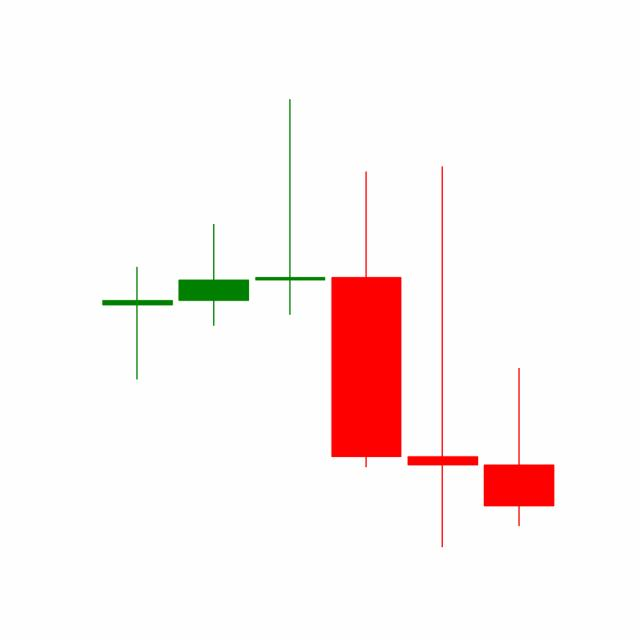Spinning Top: (403, 161, 481, 551)
